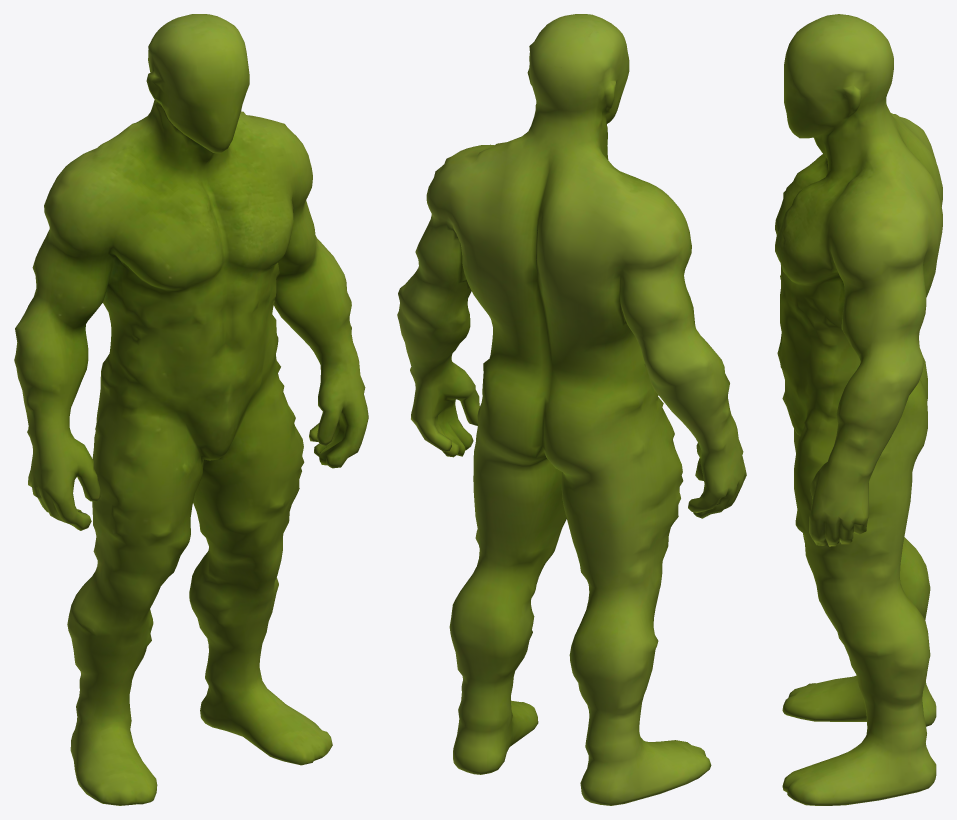
File: Ruins__moss-covered_662421af_v2.cluster.glb
3 renders of one model, left to right at view 1: azimuth 30°, elevation 25°; view 2: azimuth 150°, elevation 25°; view 3: azimuth 270°, elevation 25°, orthographic.
Parts seen in each view (by area): view 1: material; view 2: material; view 3: material.
Part boxes in pixels (x1,y1,x2,y2): material: (14, 14, 368, 805); material: (397, 14, 746, 805); material: (775, 14, 942, 805).
Size of the model in its own units: 0.8611 by 1.9 by 0.3944.
Materials: 1 (1 with a texture image).
